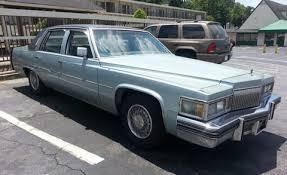windshield: (88, 26, 174, 62)
